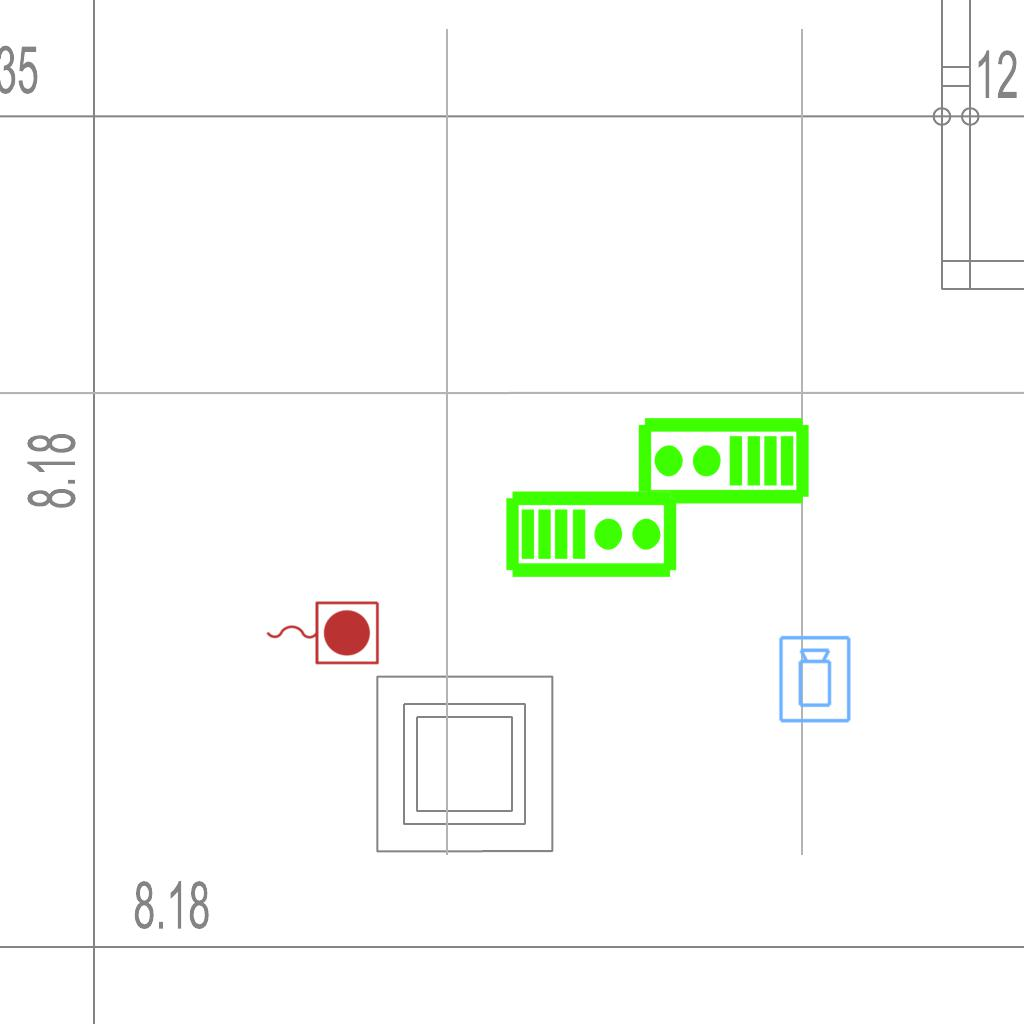Gegensprechanlage_mit_Video: (635, 415, 811, 510), (504, 485, 680, 580)
KFO_Kamera_mit_Festobjektiv: (777, 634, 854, 725)
Zugtaster: (261, 596, 383, 668)
